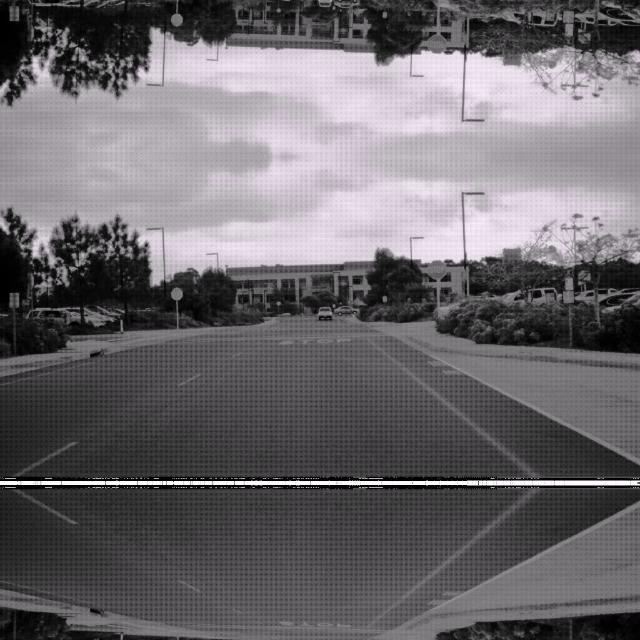stop: (426, 258, 446, 278), (426, 34, 446, 54)
